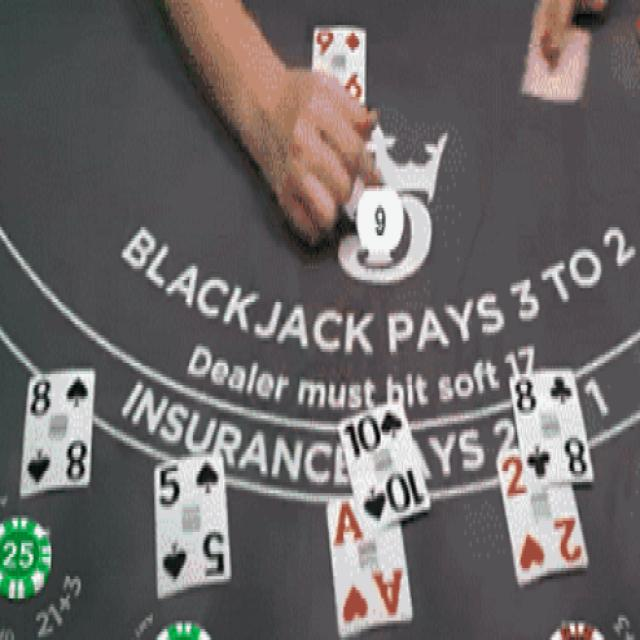Card-10: (339, 395, 429, 538)
Card-2: (496, 451, 588, 586)
Card-5: (154, 445, 231, 595)
Card-8: (509, 367, 593, 490), (20, 367, 96, 493)
Card-9: (311, 24, 365, 106)
Card-A: (326, 497, 412, 634)
